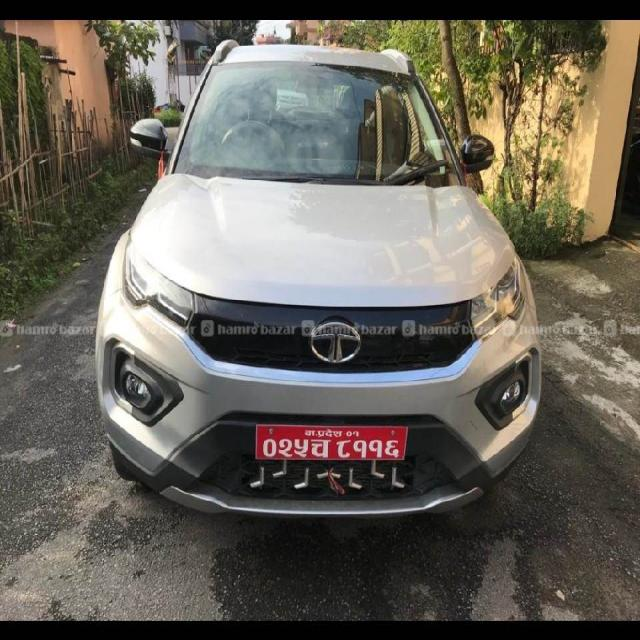License-plate: (250, 417, 410, 463)
